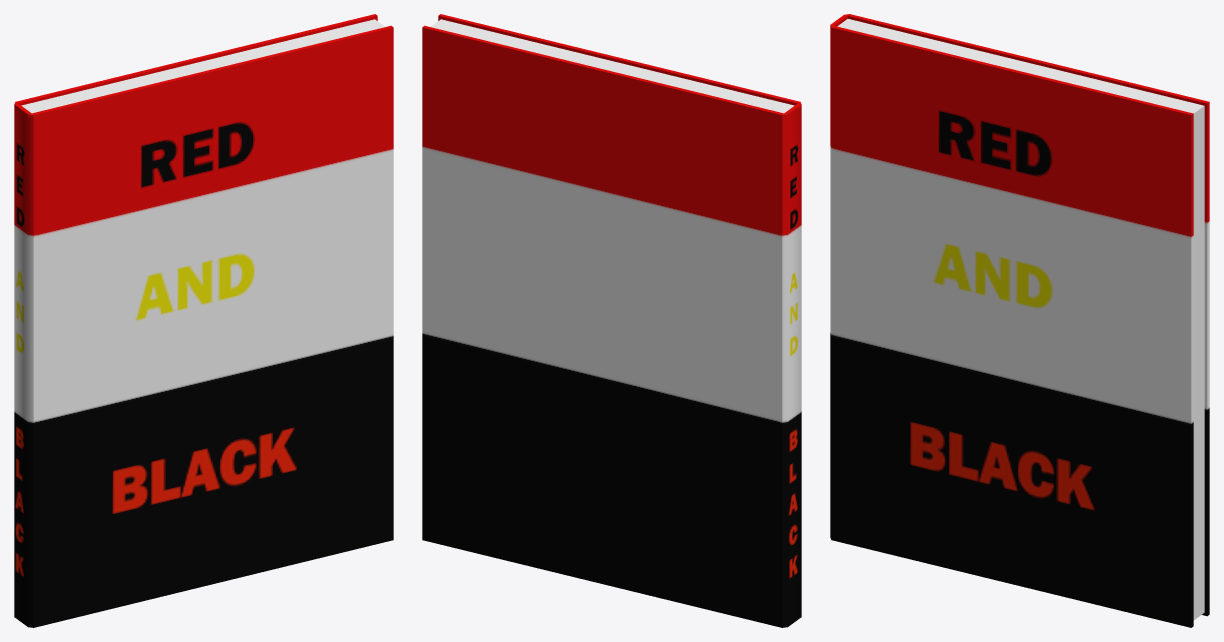
Rendered from book14.FBX.
3 renders of one model, left to right at view 1: azimuth 30°, elevation 25°; view 2: azimuth 150°, elevation 25°; view 3: azimuth 330°, elevation 25°, orthographic.
Parts seen in each view (by area): view 1: book14; view 2: book14; view 3: book14.
Part boxes in pixels (bbox=[...]): book14: bbox=[14, 14, 393, 627]; book14: bbox=[422, 14, 801, 627]; book14: bbox=[830, 14, 1209, 627].
Size of the model in its own units: 8.96 by 0.7802 by 12.09.
1 material, 1 textured.
